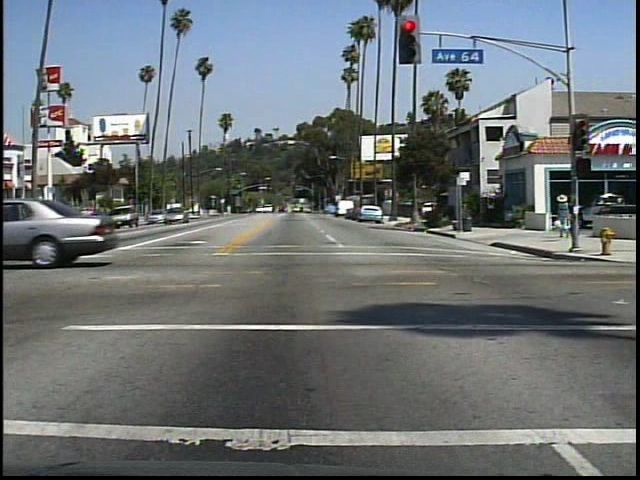person: (554, 189, 578, 243)
